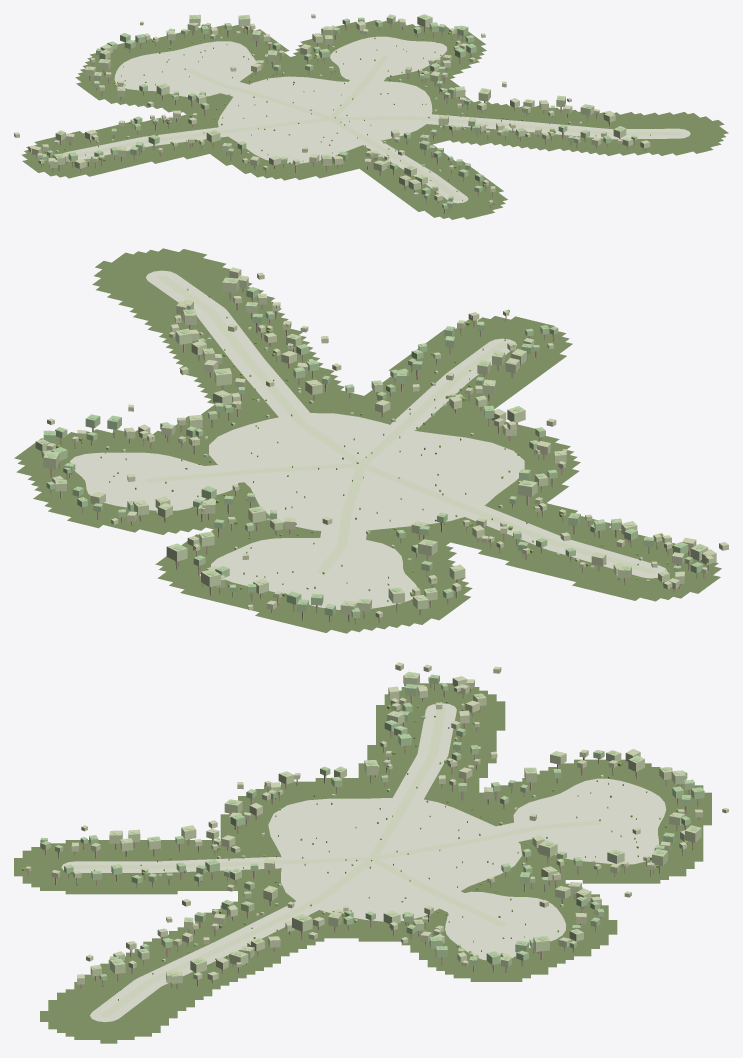
File: pradera_norte.glb
The picture shows the model from 3 angles, top to bottom: view 1: azimuth 30°, elevation 25°; view 2: azimuth 150°, elevation 25°; view 3: azimuth 270°, elevation 25°; orthographic projection. The views are drawn at different scales.
Visible parts, largest first — view 1: PraderaNorteForestFloor, CentroMeadow, NorteMeadow, NoresteMeadow, EsteMeadow, EstePath, OesteMeadow, SurMeadow, OestePath, SurPath, NortePath, NorteLinkMeadow (+2 smaller); view 2: PraderaNorteForestFloor, CentroMeadow, NorteMeadow, NoresteMeadow, EsteMeadow, OesteMeadow, EstePath, SurMeadow, OestePath, SurPath, NortePath, NorteLinkMeadow (+2 smaller); view 3: PraderaNorteForestFloor, CentroMeadow, NorteMeadow, NoresteMeadow, EsteMeadow, OesteMeadow, EstePath, OestePath, SurMeadow, SurPath, NortePath, NorteLinkMeadow (+2 smaller).
Boxes of the visible parts, box(x1,y1,x2,y2) form: PraderaNorteForestFloor: box(21, 20, 728, 219); CentroMeadow: box(218, 76, 432, 163); NorteMeadow: box(114, 41, 256, 96); NoresteMeadow: box(330, 36, 447, 80); EsteMeadow: box(403, 113, 690, 139); EstePath: box(331, 116, 682, 135); OesteMeadow: box(62, 127, 235, 161); SurMeadow: box(363, 139, 468, 203); OestePath: box(77, 118, 332, 156); SurPath: box(328, 117, 461, 200); NortePath: box(185, 68, 330, 119); NorteLinkMeadow: box(205, 78, 274, 103); PraderaNorteForestFloor: box(14, 248, 721, 633); CentroMeadow: box(209, 413, 524, 531); NorteMeadow: box(211, 538, 416, 609); NoresteMeadow: box(70, 452, 238, 510); EsteMeadow: box(146, 270, 316, 430); OesteMeadow: box(455, 502, 667, 578); EstePath: box(157, 275, 360, 463); SurMeadow: box(390, 338, 516, 432); OestePath: box(364, 464, 655, 573); SurPath: box(357, 342, 507, 466); NortePath: box(317, 464, 365, 573); NorteLinkMeadow: box(320, 506, 369, 554); PraderaNorteForestFloor: box(14, 683, 711, 1043); CentroMeadow: box(268, 797, 522, 921); NorteMeadow: box(513, 778, 666, 864); NoresteMeadow: box(445, 891, 565, 960); EsteMeadow: box(90, 893, 330, 1022); OesteMeadow: box(392, 703, 456, 804); EstePath: box(100, 859, 375, 1017); OestePath: box(369, 707, 445, 859); SurMeadow: box(61, 857, 290, 872); SurPath: box(72, 857, 376, 868); NortePath: box(371, 820, 600, 860); NorteLinkMeadow: box(454, 819, 557, 848).
Bounding box in the file's own units: 198 × 5.8 × 166.
